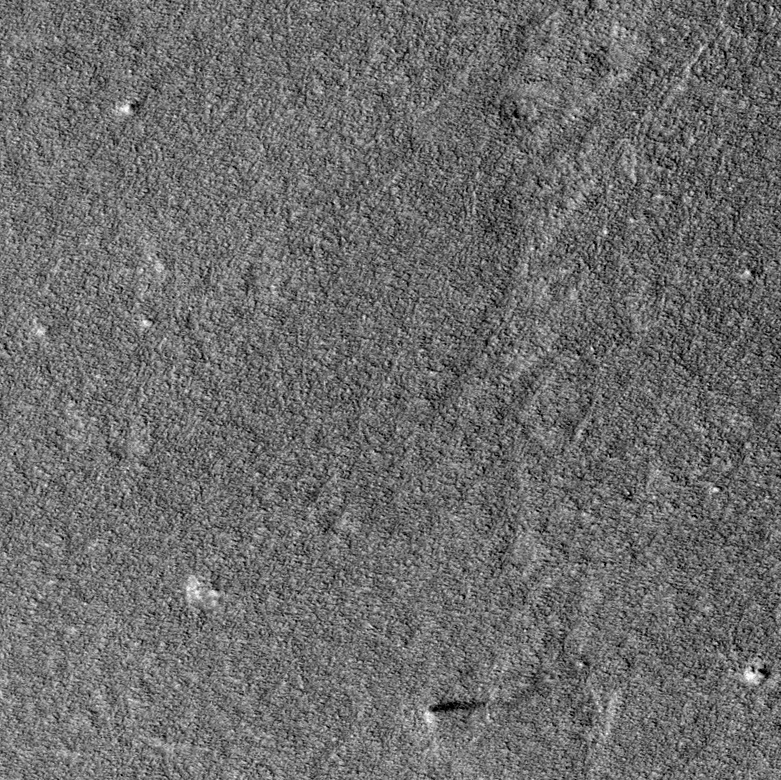dust_devil: (422, 697, 487, 726)
